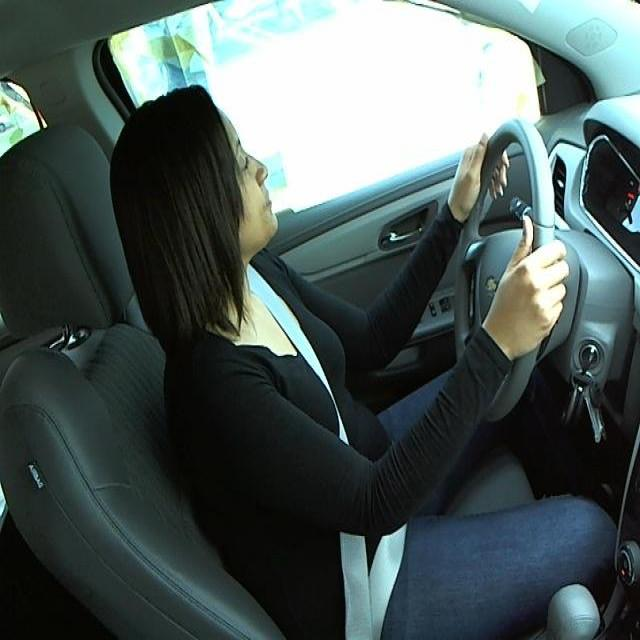without_using_phone: (80, 34, 327, 366)
